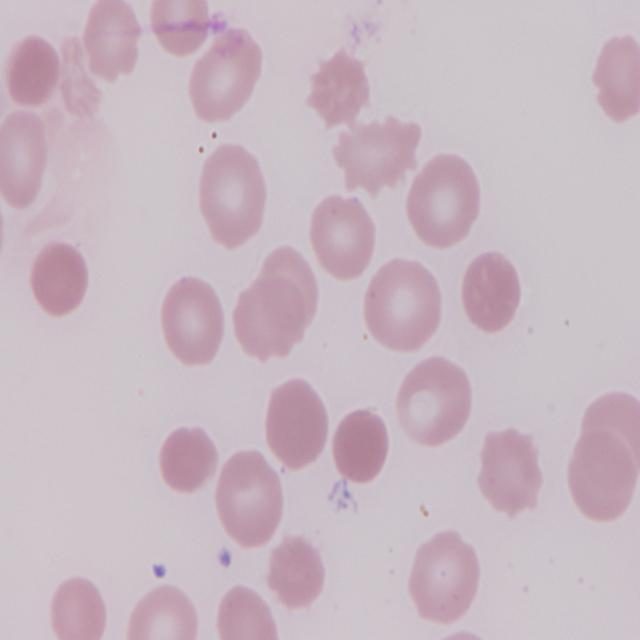RBC: (565, 402, 638, 528), (362, 256, 448, 354), (198, 140, 272, 249), (392, 352, 474, 448), (212, 449, 288, 552), (406, 524, 484, 624), (406, 151, 484, 251), (188, 28, 268, 124), (228, 268, 311, 358), (308, 189, 380, 281), (475, 426, 545, 520), (158, 276, 226, 372), (262, 379, 332, 472), (1, 100, 52, 212), (79, 0, 145, 86), (268, 532, 328, 614), (122, 582, 204, 640), (590, 28, 638, 124), (214, 580, 286, 640), (48, 572, 110, 640)
Spherocyte: (456, 249, 526, 336), (328, 404, 390, 485), (4, 29, 64, 110), (32, 240, 92, 320), (158, 426, 219, 496)
